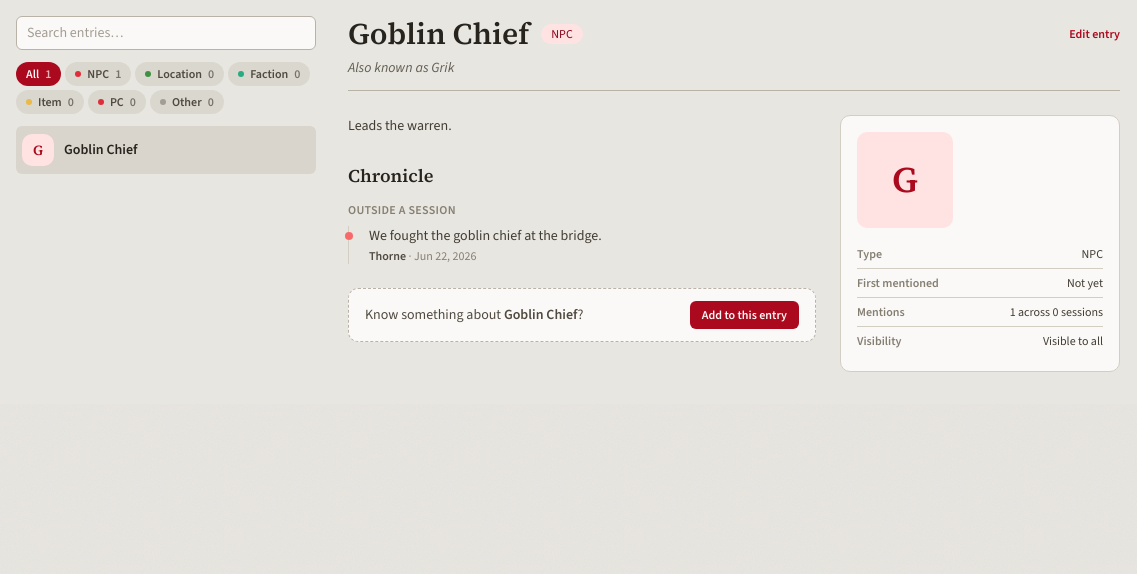
Test case: EntityDetailPage (#248) › opens the edit form from the contribute band (#842)
Click the button "Add to this entry": (744, 315) [690,301,799,329]
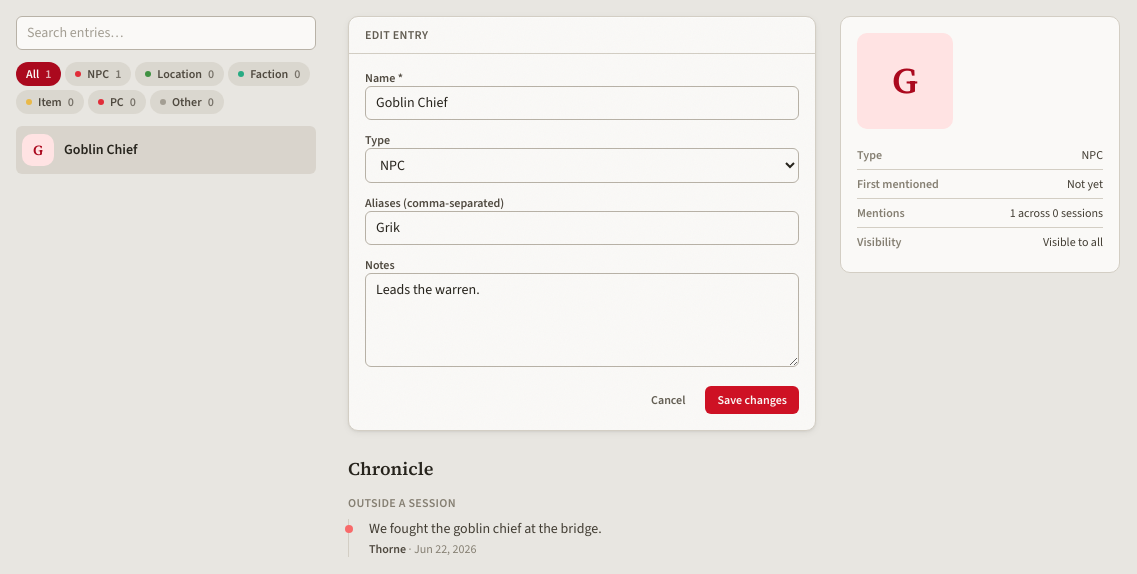
Expected: the field labelled "Name *" holds "Goblin Chief", [365,86,799,120]
